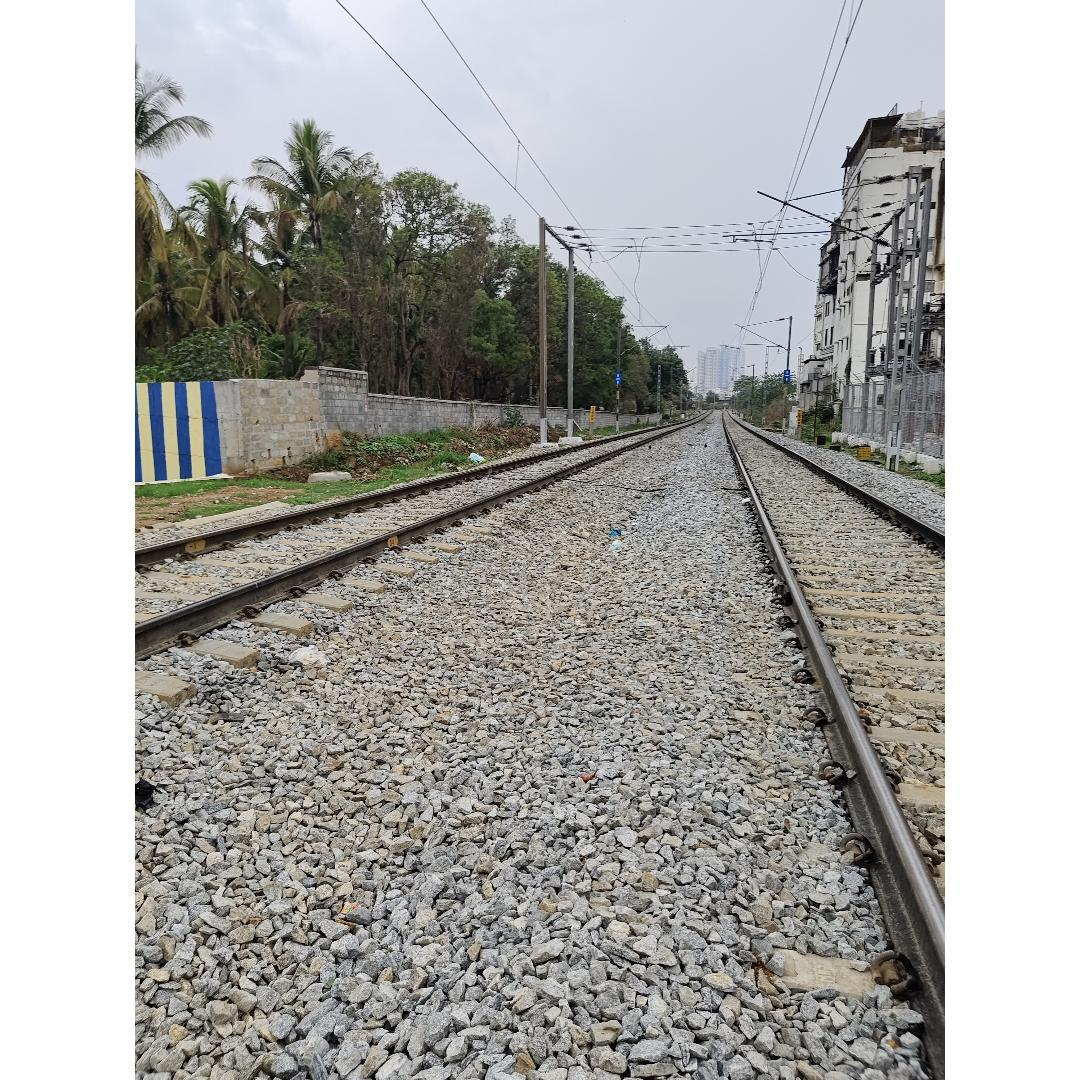track: (135, 414, 715, 697), (713, 406, 945, 1080)
